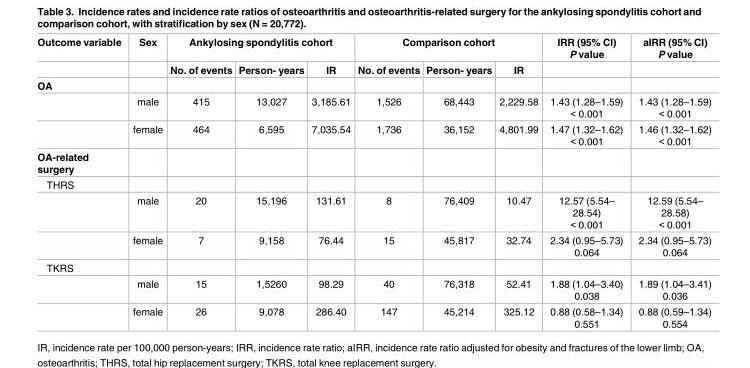table: (36, 37, 710, 328)
table column: (36, 37, 126, 328), (543, 37, 630, 328), (630, 37, 710, 328), (234, 37, 307, 328), (422, 37, 494, 328), (165, 37, 234, 328), (353, 37, 422, 328), (494, 37, 543, 328), (307, 37, 353, 328), (126, 37, 165, 328)
table column header: (36, 37, 710, 77)
table projected row header: (36, 149, 710, 177), (36, 77, 710, 93), (36, 260, 710, 276), (36, 177, 710, 192)
table row: (36, 192, 710, 232), (36, 93, 710, 121), (36, 121, 710, 149), (36, 149, 710, 177), (36, 232, 710, 260), (36, 276, 710, 303), (36, 37, 710, 62), (36, 303, 710, 328), (36, 77, 710, 93), (36, 260, 710, 276), (36, 62, 710, 77), (36, 177, 710, 192)
table spanning cell: (353, 37, 543, 62), (165, 37, 353, 62), (36, 37, 126, 77), (543, 37, 630, 77), (630, 37, 710, 77), (126, 37, 165, 77)
